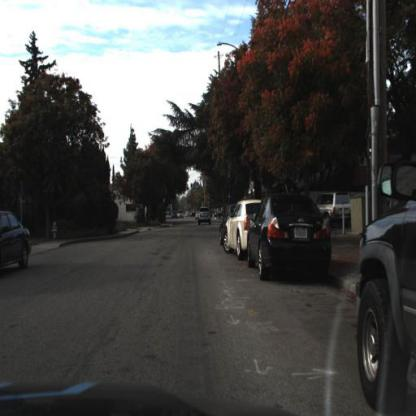car: (355, 154, 416, 416), (245, 188, 334, 279), (222, 196, 265, 259), (1, 207, 34, 278), (195, 204, 212, 230)
